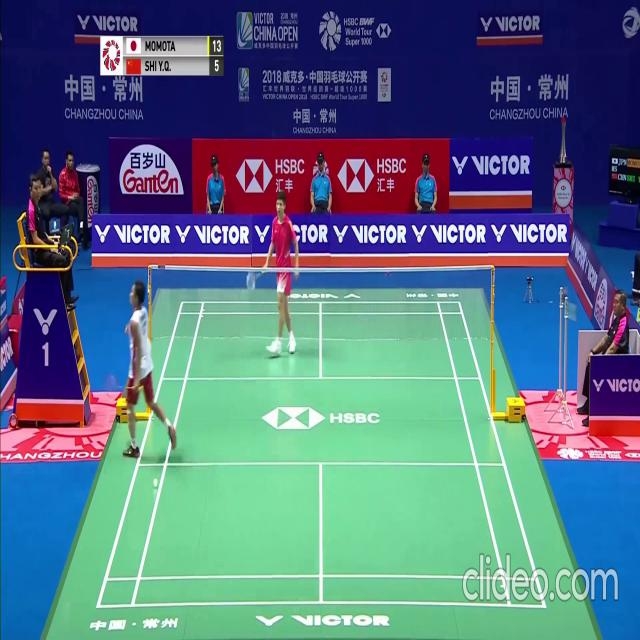Shuttlecock: (152, 476, 157, 484)
